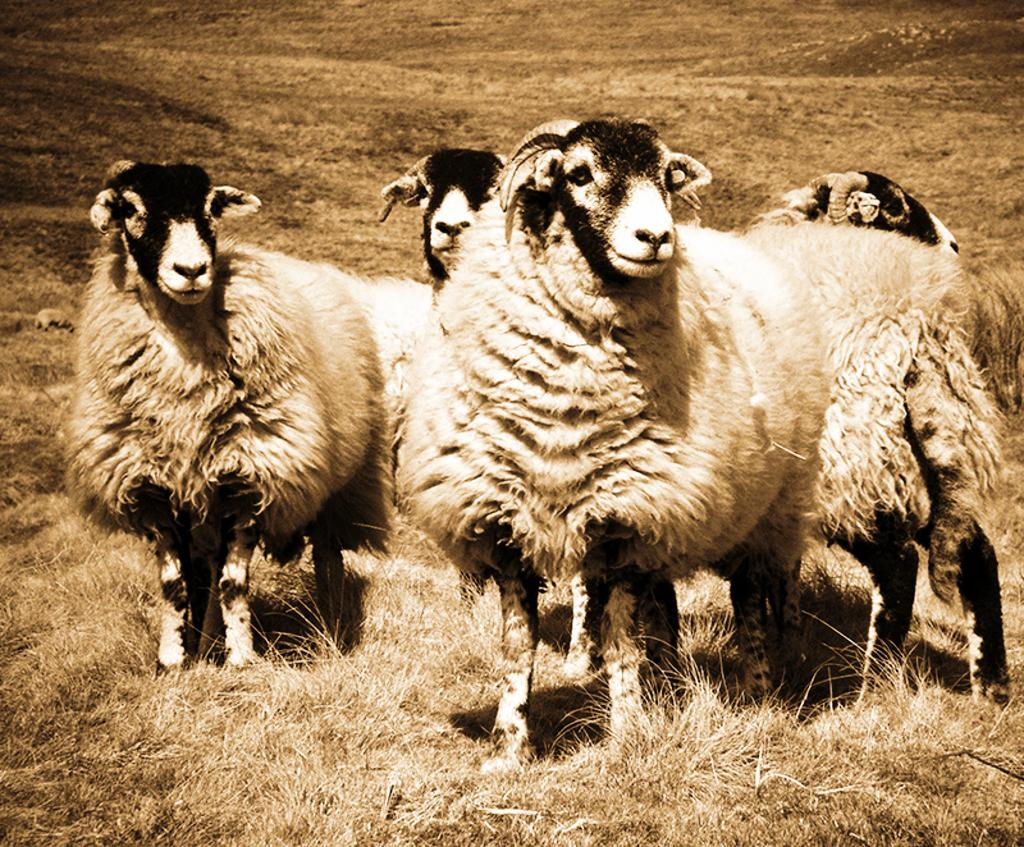Sheep: (380, 148, 1011, 726), (41, 160, 442, 676), (571, 165, 961, 686), (664, 164, 977, 671)
